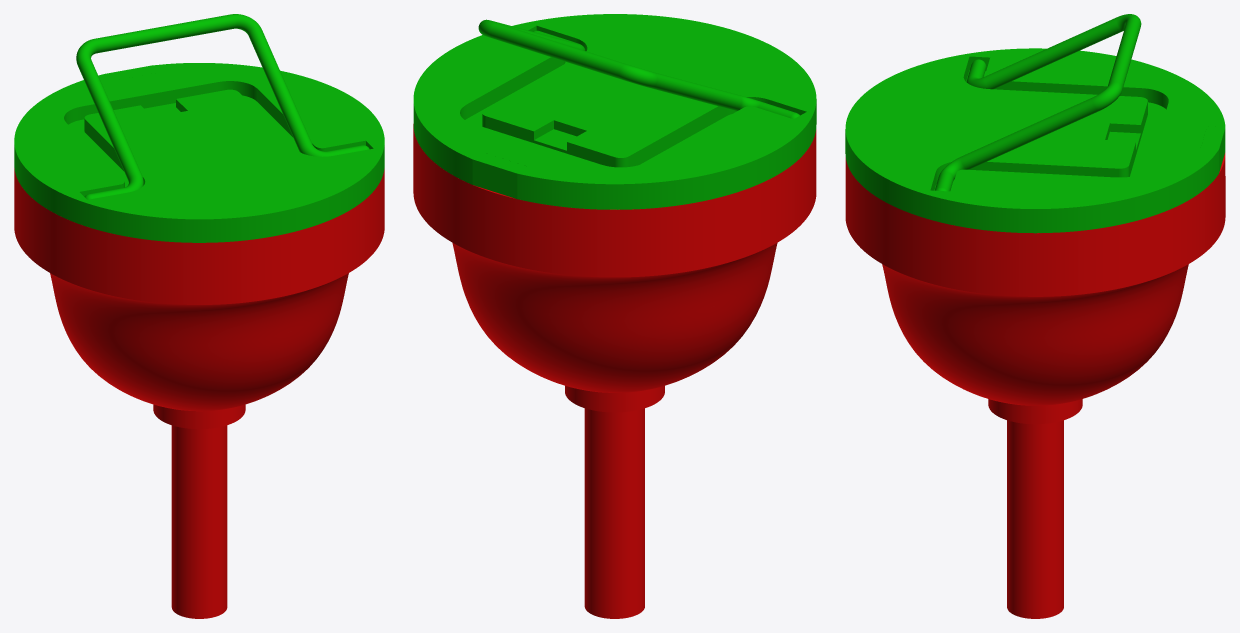
The model's file is receptacle.glb.
3 renders of one model, left to right at view 1: azimuth 30°, elevation 25°; view 2: azimuth 150°, elevation 25°; view 3: azimuth 270°, elevation 25°, orthographic. The views are drawn at different scales.
Visible parts, largest first — view 1: BODY, Lif; view 2: BODY, Lif; view 3: BODY, Lif.
Part boxes in pixels (left/top/right/bottom): BODY: left=14, top=168, right=384, bottom=618; Lif: left=14, top=14, right=384, bottom=242; BODY: left=413, top=124, right=816, bottom=618; Lif: left=413, top=14, right=816, bottom=209; BODY: left=845, top=153, right=1225, bottom=618; Lif: left=845, top=14, right=1225, bottom=233.
Size of the model in its own units: 0.1 by 0.1628 by 0.1.
